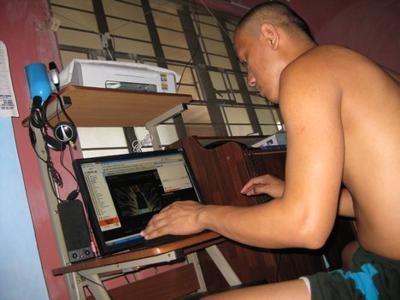person: (141, 1, 400, 300)
